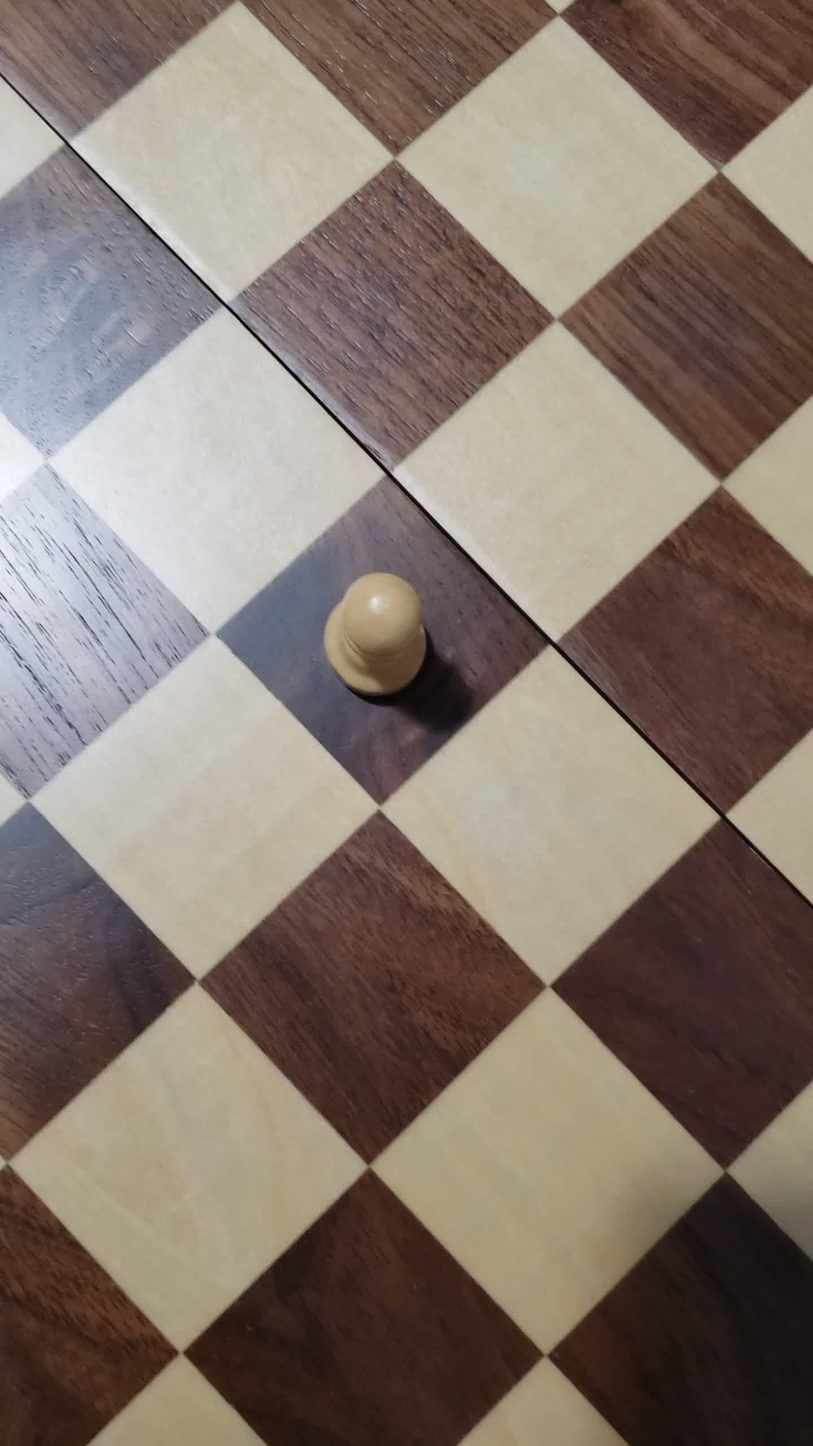white-pawn: (305, 557, 462, 712)
